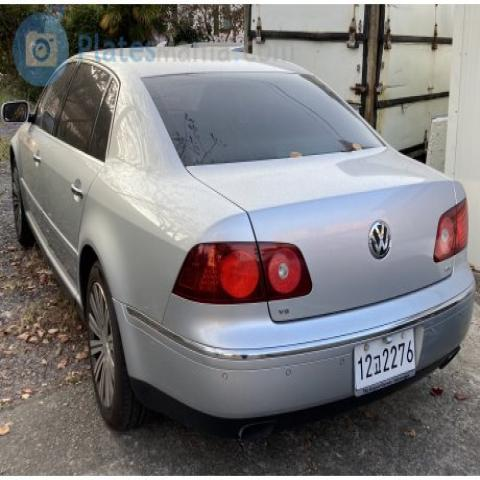LP: (339, 316, 438, 402)
